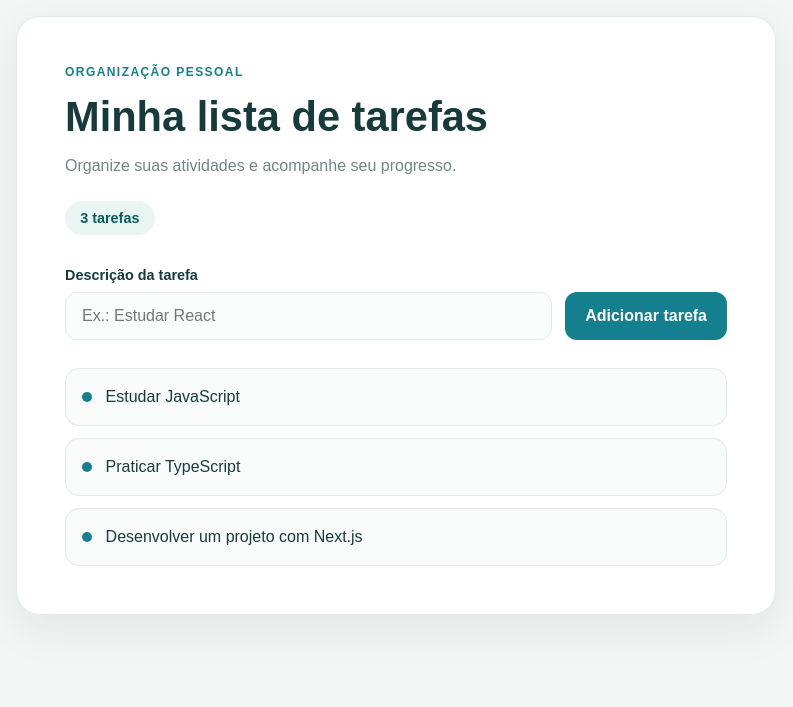
Test: Página inicial › deve adicionar uma tarefa e atualizar o contador
Type "Estudar testes de integração" into the field labelled "Descrição da tarefa" at (308, 316), box 65,292 -> 552,340
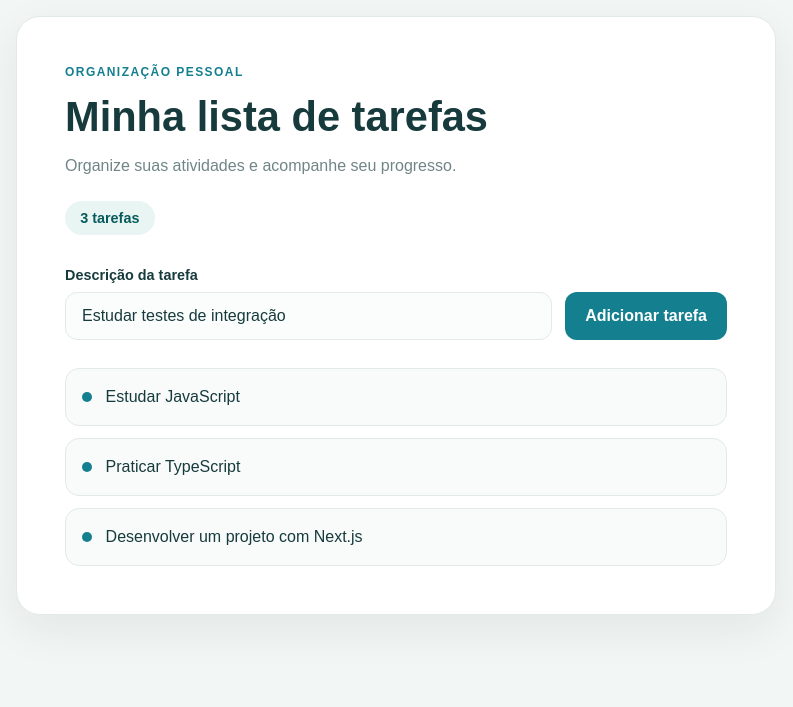
Click the button "Adicionar tarefa" at (646, 316), box 565,292 -> 727,340
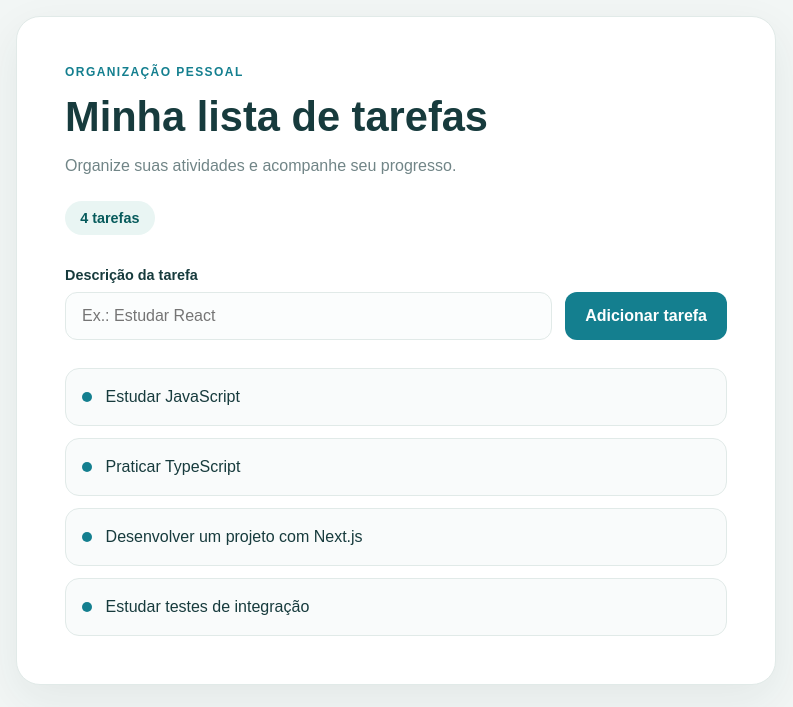
expect the text "Estudar testes de integração" is shown: met, box 106,595 -> 309,619
expect the text "4 tarefas" is shown: met, box 65,201 -> 155,235
